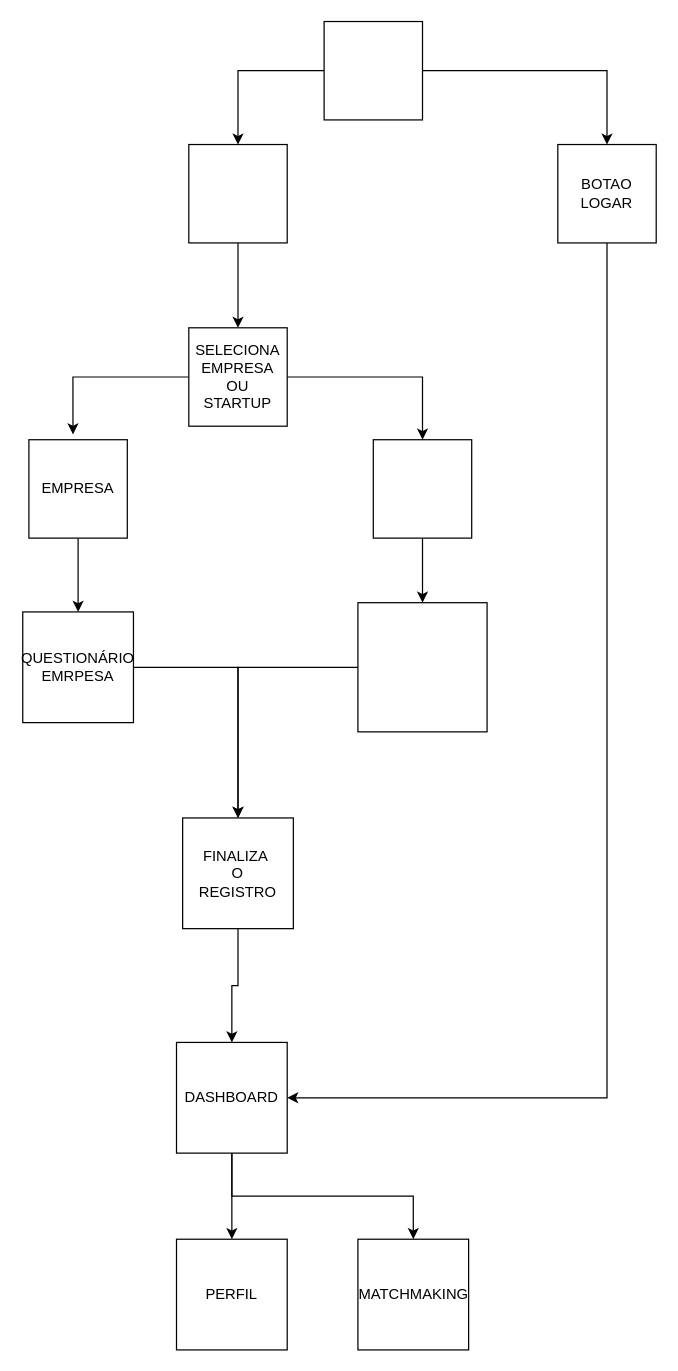
The diagram is 678 pixels wide and 1371 high, and some of its shapes have lost their labels. Here are the shapes that lost their labels. From the top down, the centre of each, then its label:
[373,70]: INICIO SITEMA
[237,193]: BOTAO REGISTRO
[422,488]: STARTUP
[422,666]: QUESTIONARIO STARTUP
